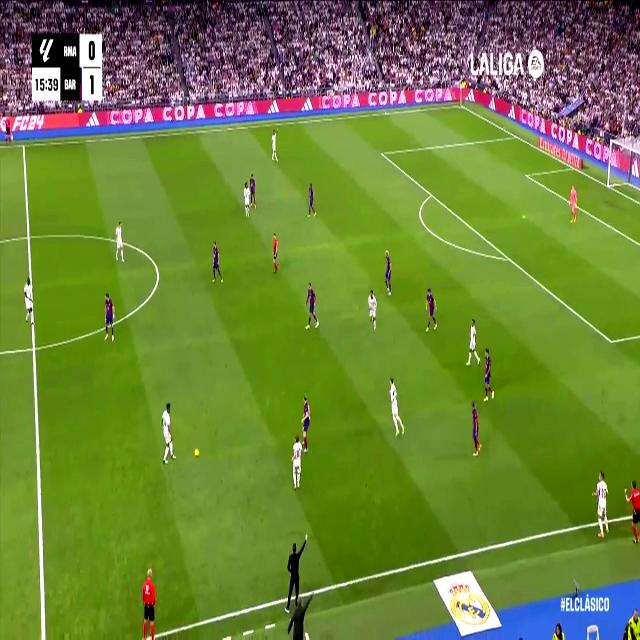bigarea_bottom_inner: (607, 330, 616, 352)
bigarea_top_inner: (378, 146, 386, 160)
bigarea_top_outter: (512, 129, 519, 141)
bottom_arc_area_intersection: (504, 250, 512, 266)
corner: (456, 100, 464, 110)
halfcircle_bottom: (28, 336, 40, 360)
halfcircle_top: (23, 226, 34, 247)
midline_top_intersection: (20, 140, 28, 152)
smallarea_top_inner: (524, 169, 528, 179)
top_arc_area_intersection: (428, 187, 434, 200)
